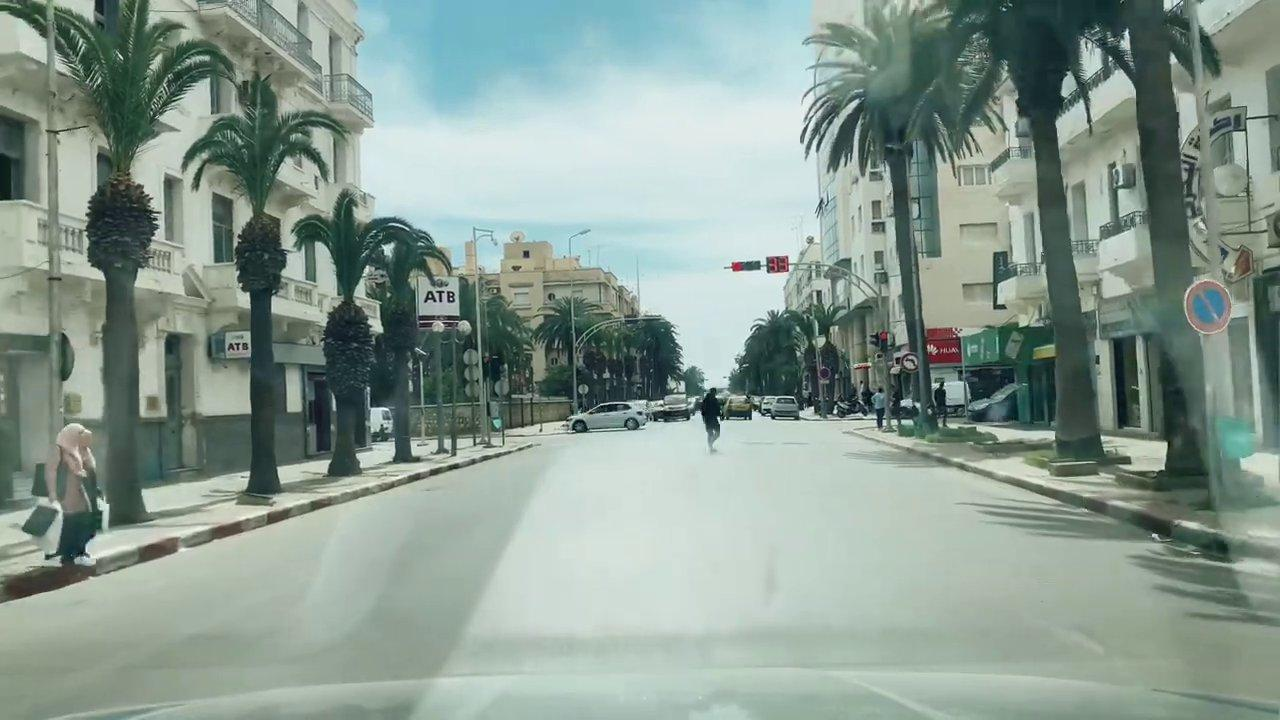no parking: (1183, 277, 1233, 335)
